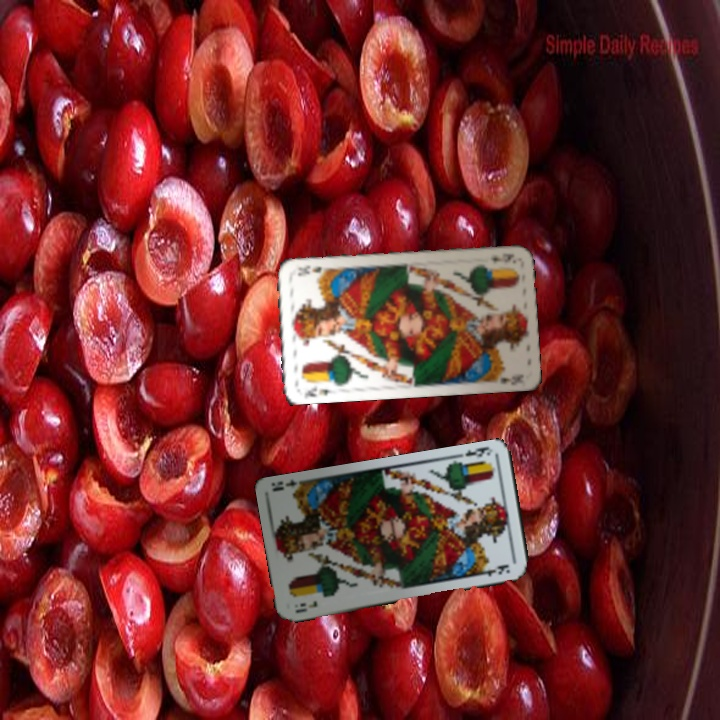EK: (301, 381, 337, 399), (291, 596, 320, 615), (461, 443, 495, 459), (487, 249, 517, 265)
